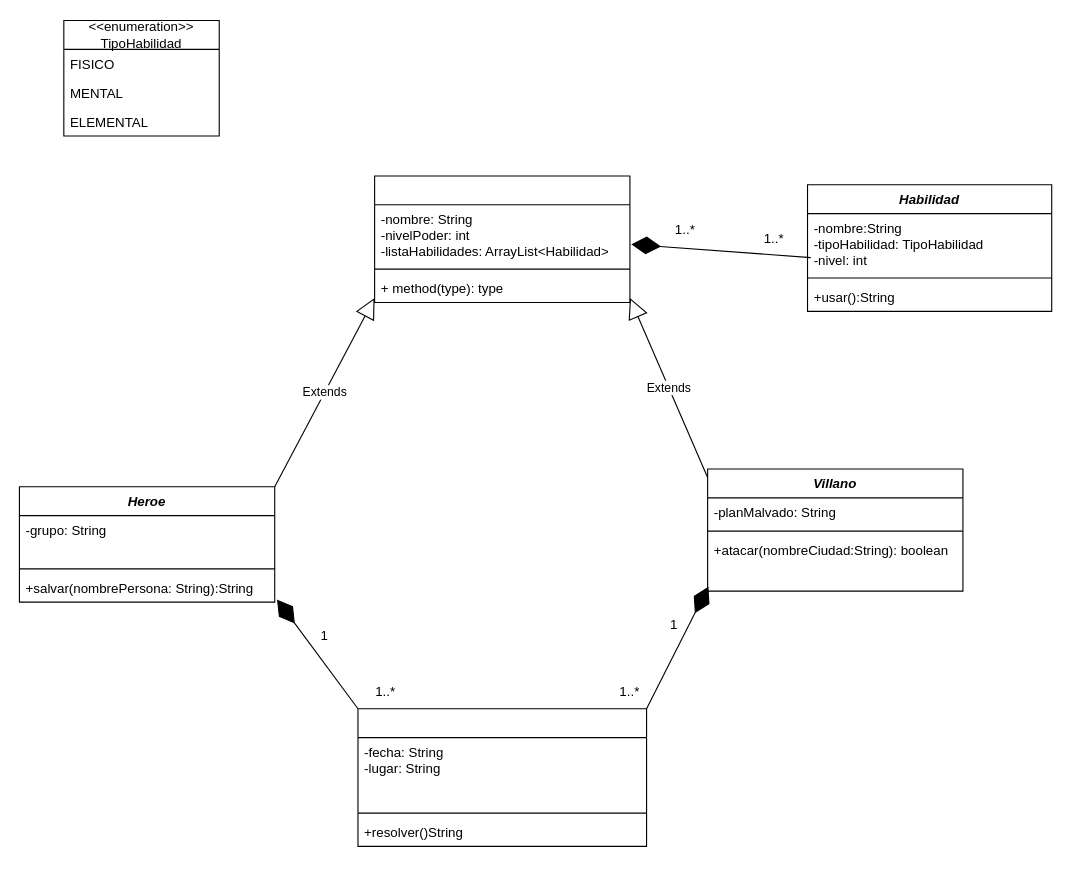
This 1071x869 diagram has some shape labels left out. The shapes that lost their labels are listed below. From the top down, each one's box as (x1, y1, x2, y2) in pixels, then its label:
(374, 175, 630, 302): Personaje
(357, 708, 647, 846): Combate
